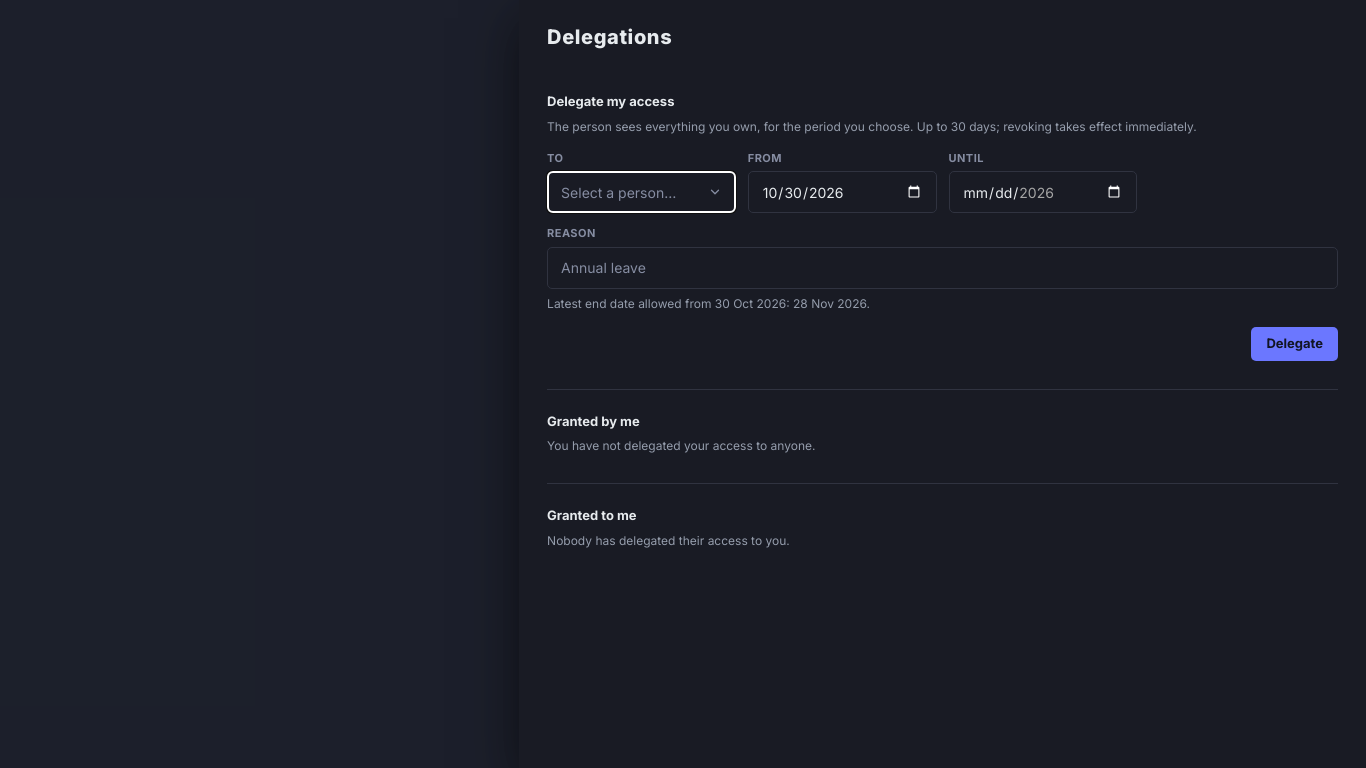
DelegationsPanel › should say what a refused grant broke, in words
Click the button with aria-label "Delegate to" at point(641, 192), box [547,171,736,213]
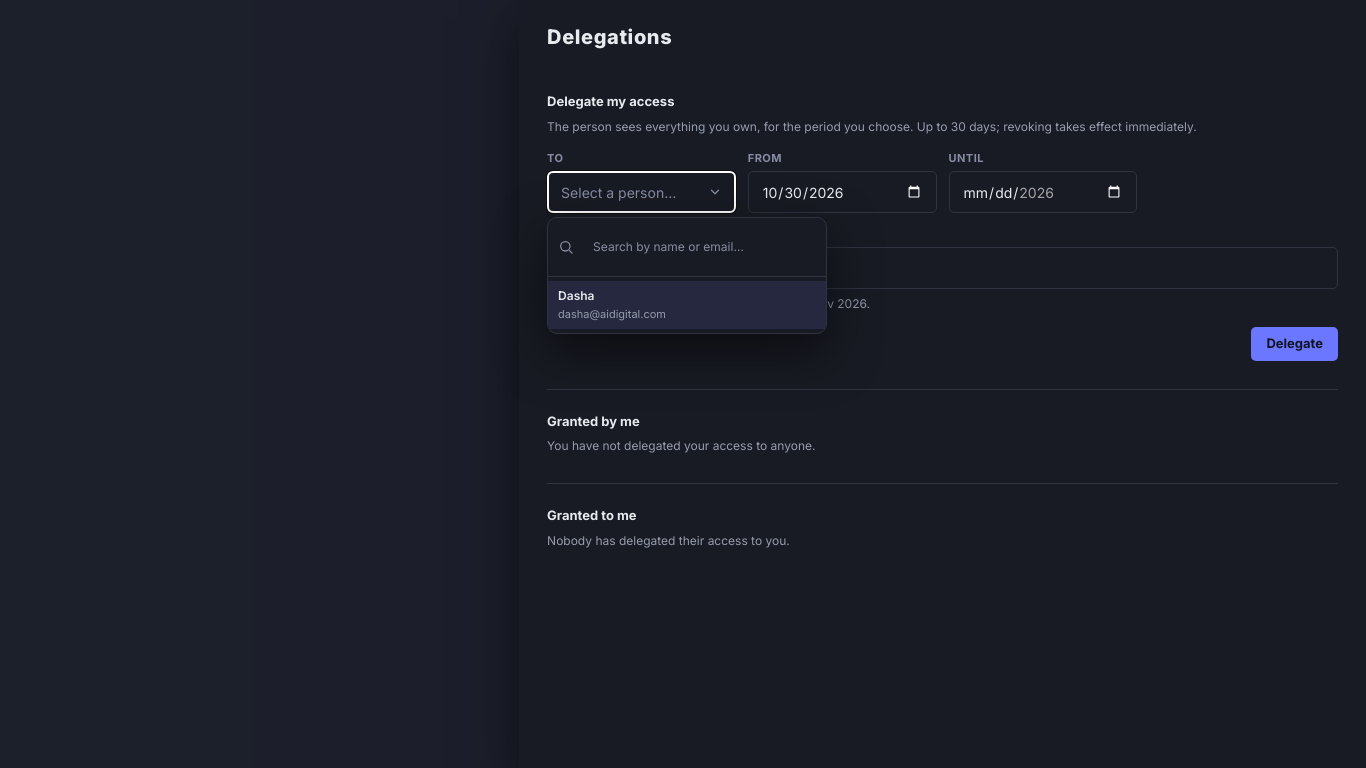
Click the option "Dasha dasha@aidigital.com" at point(576, 296), box [548,281,826,328]
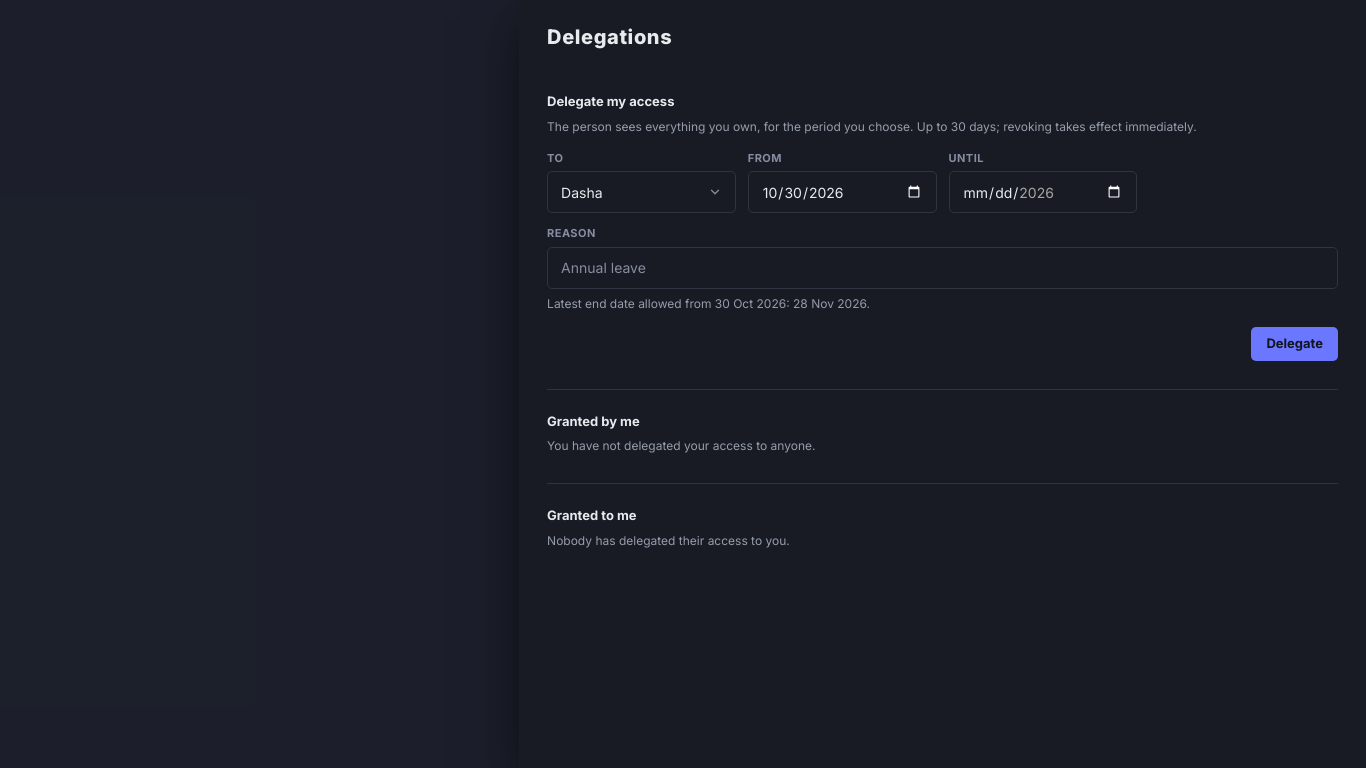
Type "2026-09-20" into the date field labelled "Until" at point(1043, 192), box [948,171,1137,213]
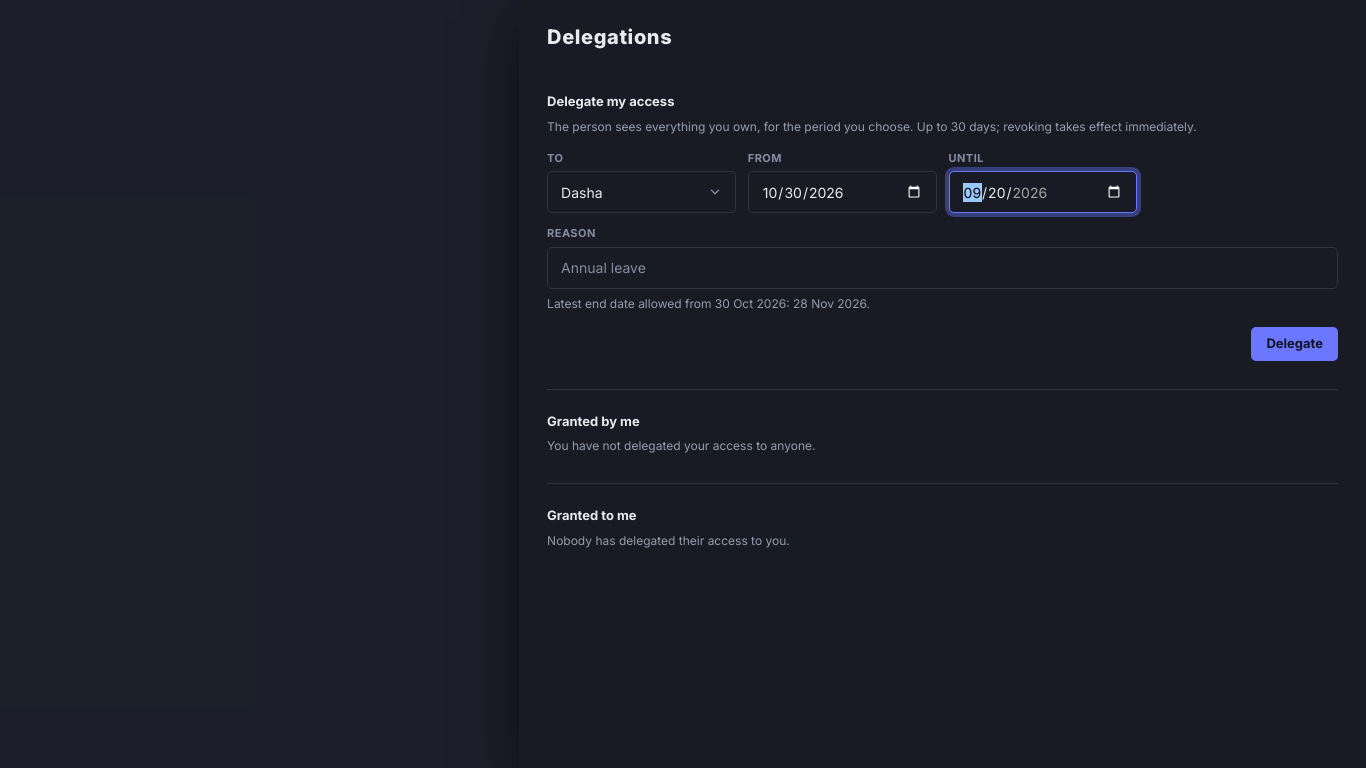
Click the button "Delegate" at point(1295, 344), box [1252,326,1338,360]
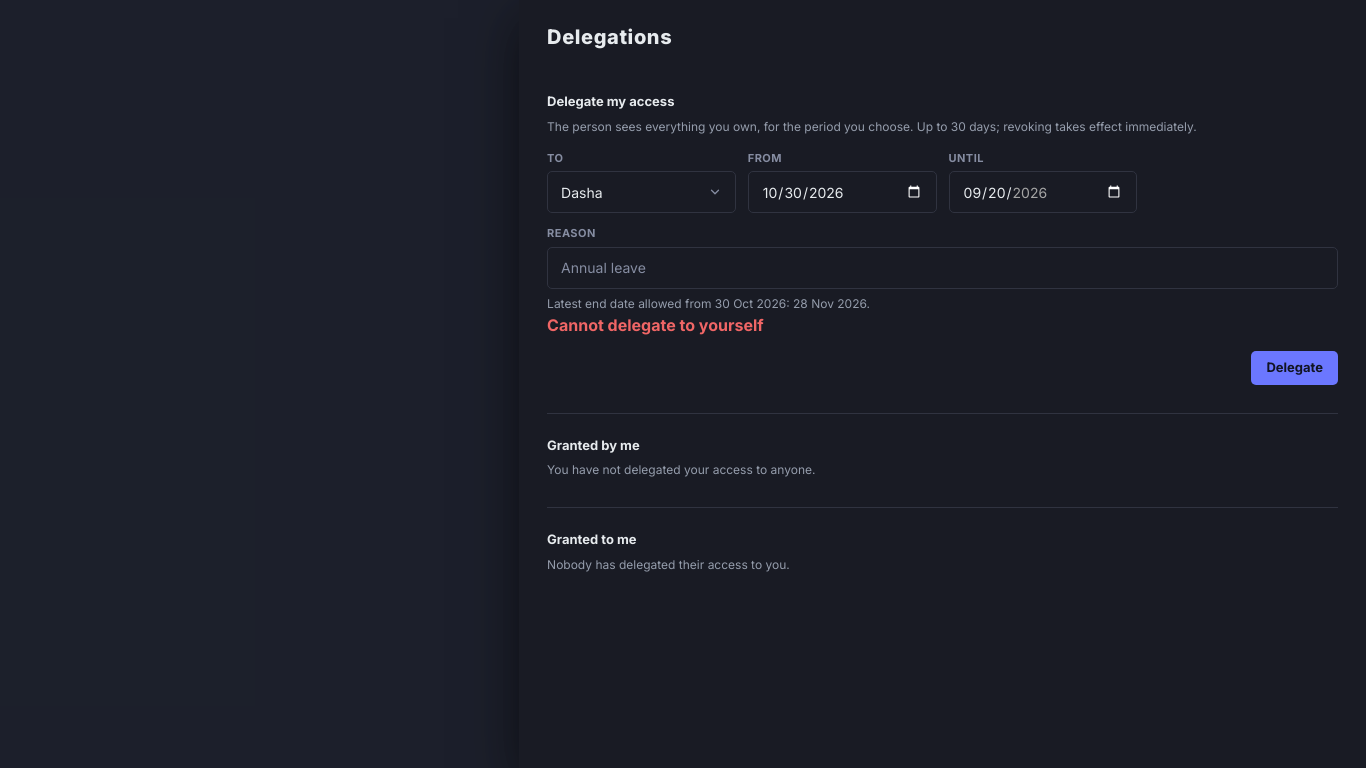
Expected: the text "Cannot delegate to yourself" is shown, [547,314,764,334]
